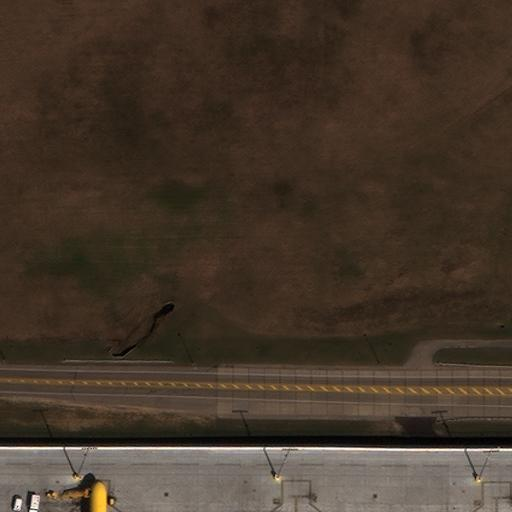Large Civil Transport: (65, 479, 131, 512)
